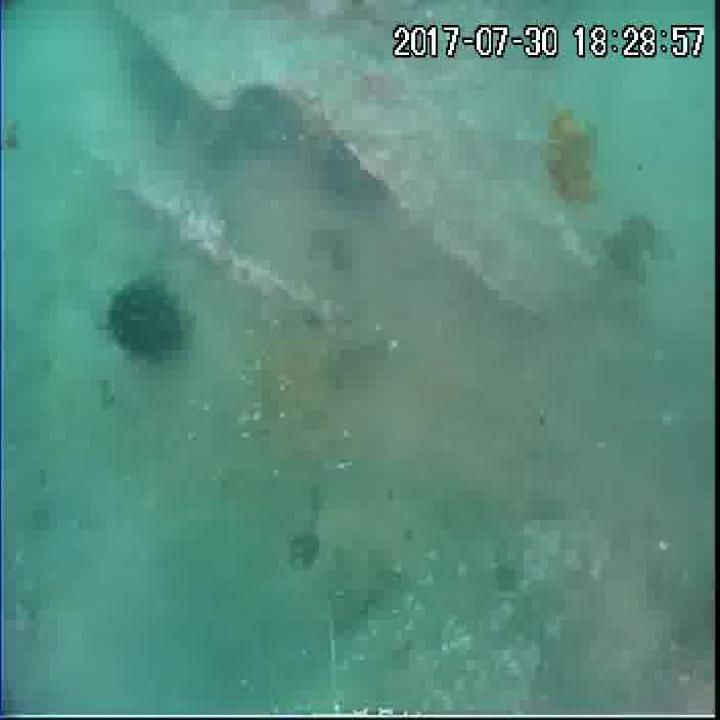echinus: (104, 268, 182, 364), (233, 81, 310, 161), (322, 134, 388, 207)
